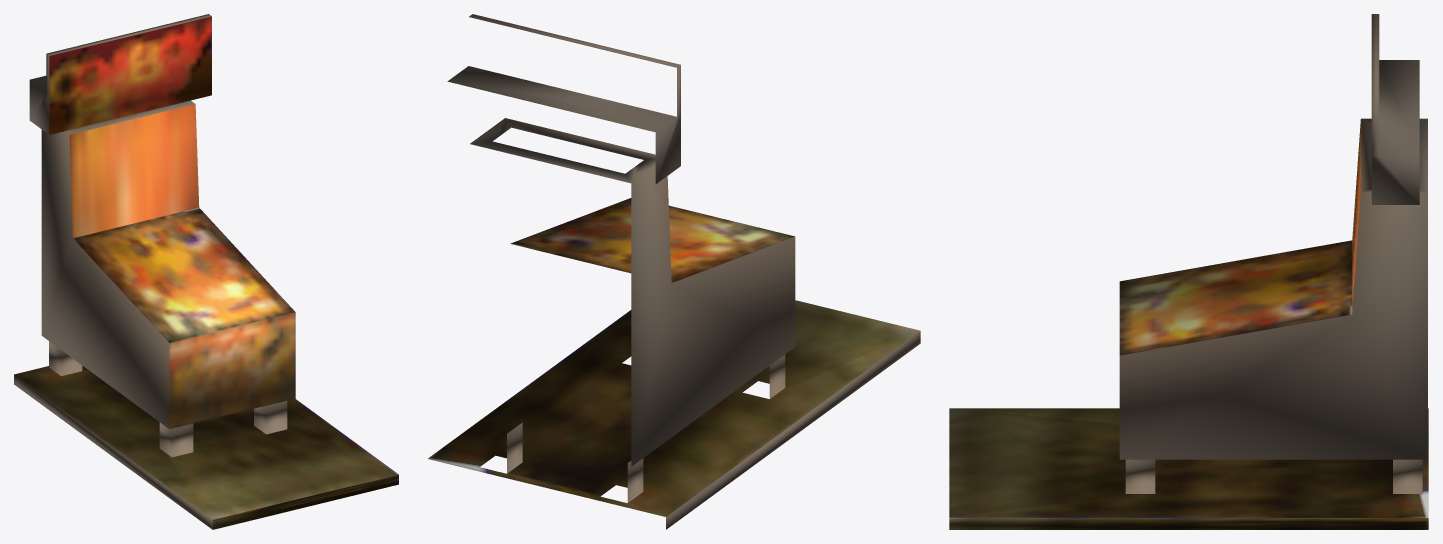
The model's file is czed.hrc.gltf.
3 views of the same model, side by side, from view 1: azimuth 30°, elevation 25°; view 2: azimuth 150°, elevation 25°; view 3: azimuth 270°, elevation 25° (orthographic). The views are drawn at different scales.
Parts seen in each view (by area): view 1: czedBone0_null; view 2: czedBone0_null; view 3: czedBone0_null.
Part boxes in pixels (x1,y1,x2,y2): czedBone0_null: (14, 14, 398, 529); czedBone0_null: (428, 14, 920, 529); czedBone0_null: (949, 14, 1428, 529).
Bounding box in the file's own units: 23.34 × 41.09 × 43.17.
Materials: 6 (5 with a texture image).
